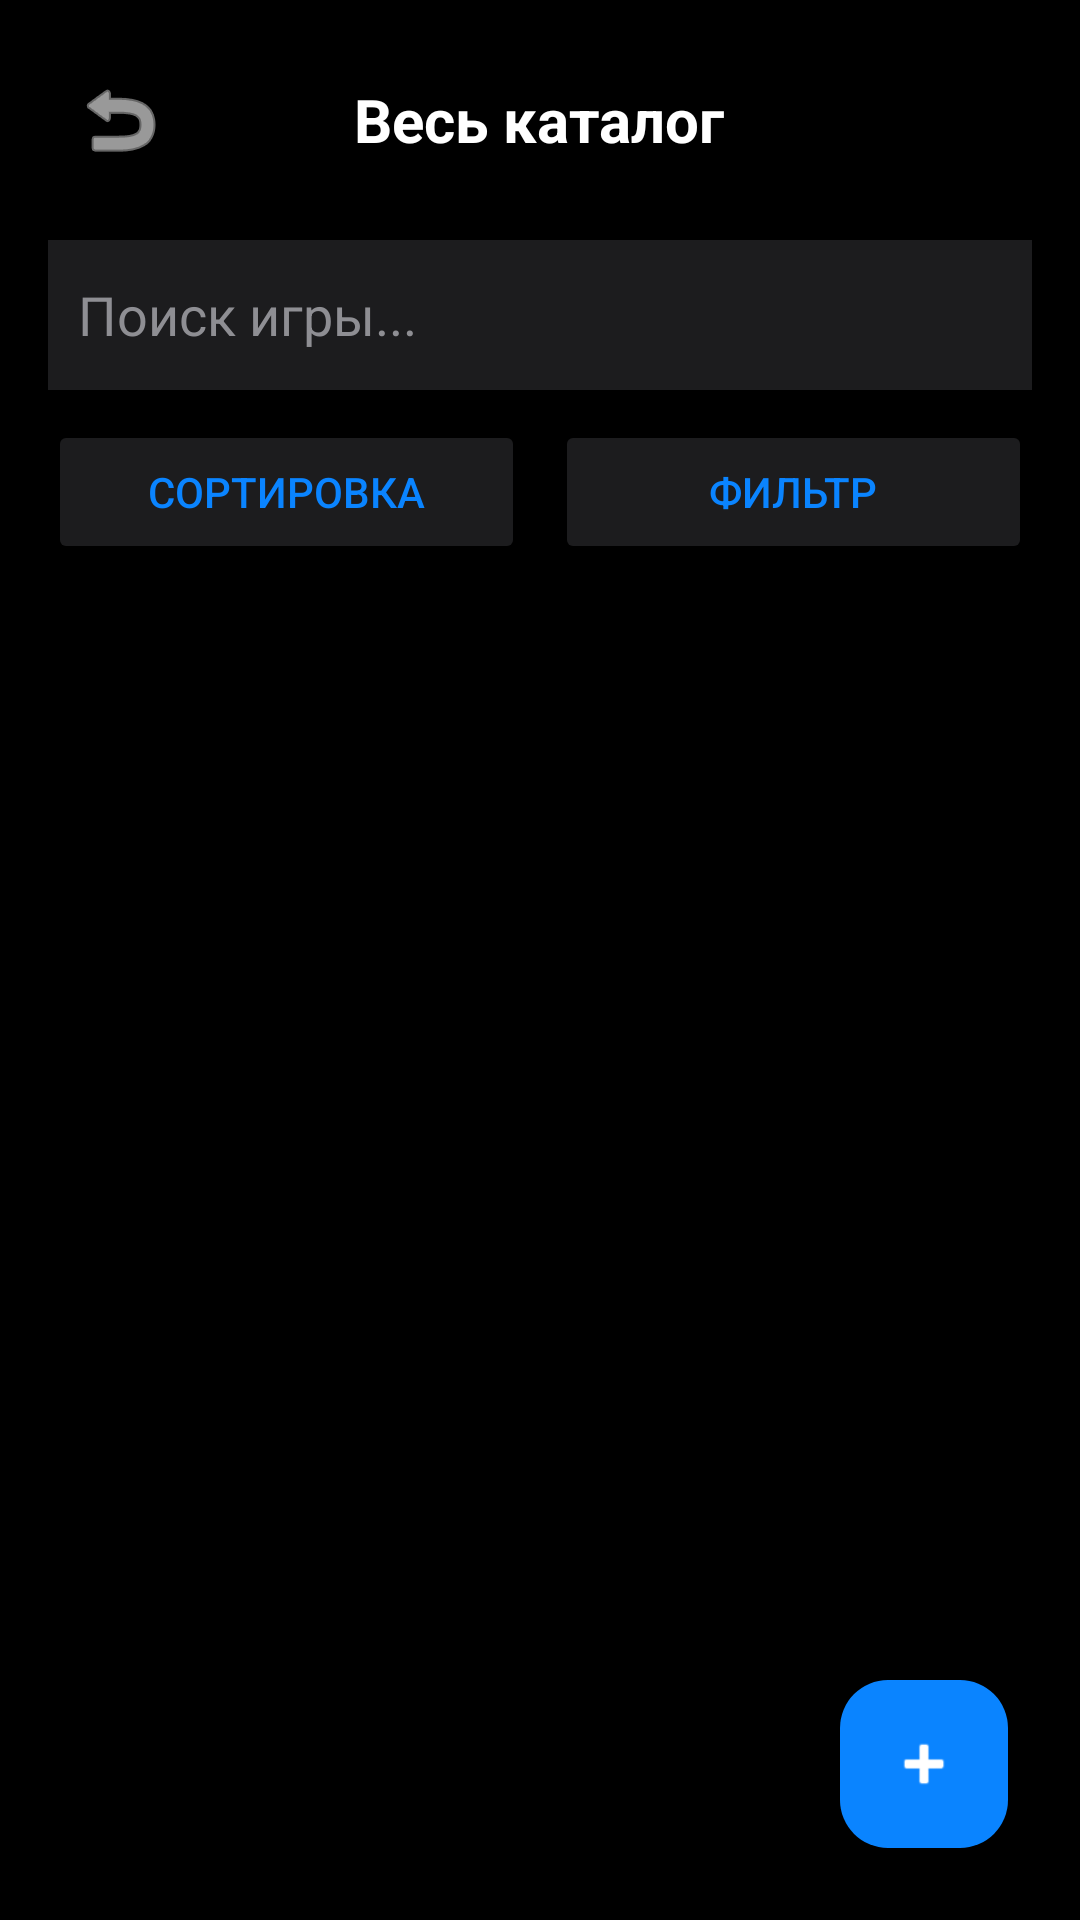

Icon click points for this 1080 x 1920 phone screenshot, format (x=x, y=y):
add: (x=924, y=1764)
revert: (x=121, y=120)
